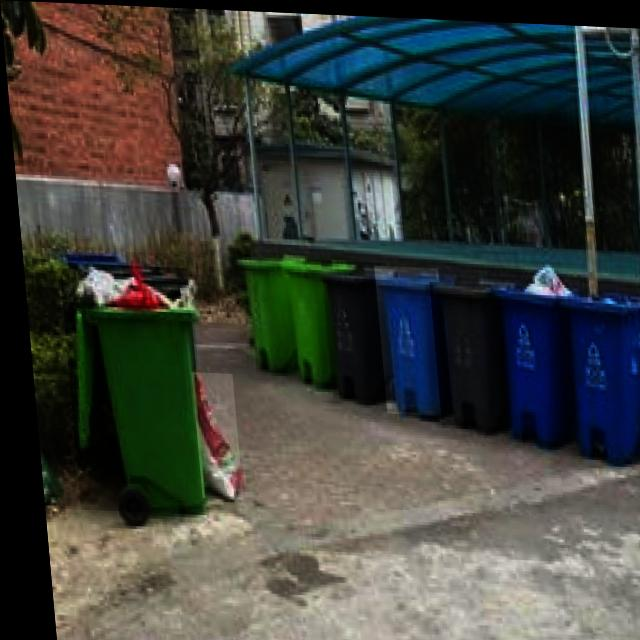garbage: (185, 370, 234, 498)
garbage_bin: (553, 283, 640, 457), (370, 262, 444, 413), (425, 278, 500, 426), (278, 251, 356, 385), (316, 258, 386, 397), (228, 249, 292, 366)
overflow: (54, 262, 200, 514), (482, 254, 571, 443)
